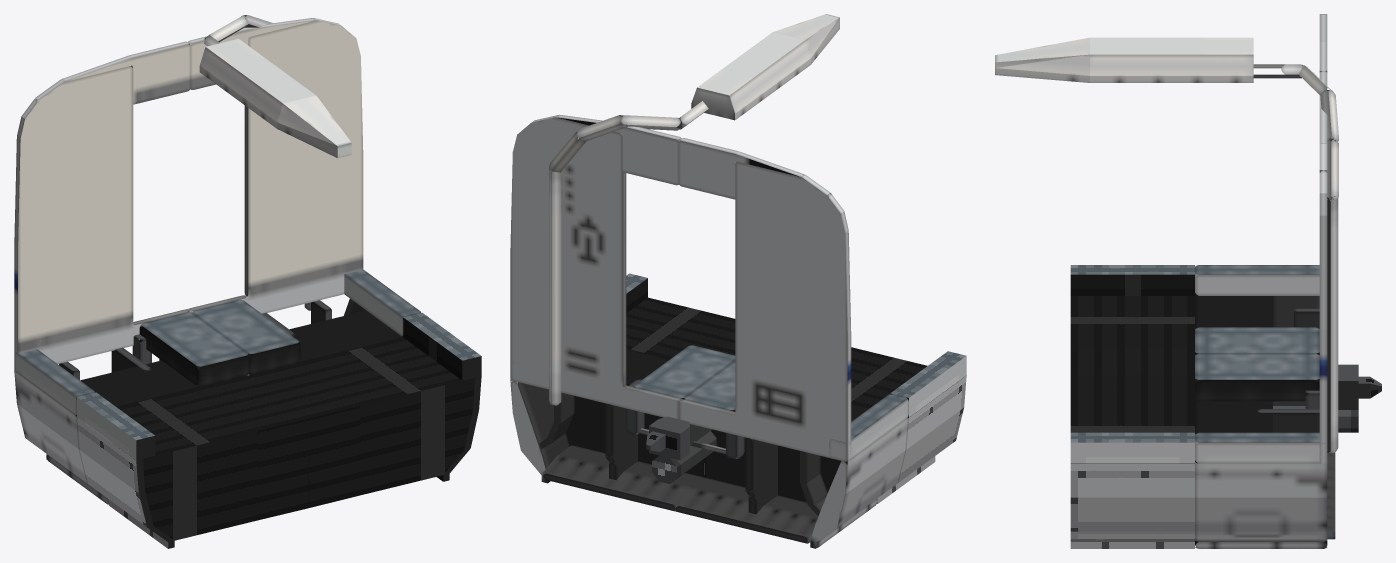
File: world_horizontal_wired.obj
3 views of the same model, side by side, from view 1: azimuth 30°, elevation 25°; view 2: azimuth 150°, elevation 25°; view 3: azimuth 270°, elevation 25° (orthographic). The views are drawn at different scales.
Parts seen in each view (by area): view 1: 端面1, 裙板-仪器舱靠近端面R, 裙板-仪器舱靠近端面L, 裙板-仪器舱R, 地板-中间, mesh, 裙板-仪器舱L, 端面2, 防雪风挡骨架, 防雪风挡骨架2; view 2: 端面1, mesh, 裙板-仪器舱R, 防雪风挡, 裙板-仪器舱靠近端面R, 裙板-仪器舱L, 端面2, 裙板-仪器舱靠近端面L, 地板-中间, 防雪风挡骨架, 防雪风挡骨架2, 半自动车钩 (+2 smaller); view 3: 裙板-仪器舱靠近端面L, 裙板-仪器舱L, mesh, 裙板-仪器舱靠近端面R, 地板-中间, 裙板-仪器舱R, 端面1, 防雪风挡骨架, 半自动车钩, 端面2, 防雪风挡, cylinder (+1 smaller).
Part boxes in pixels (<box>): 端面1: <box>14,18,363,371</box>; 裙板-仪器舱靠近端面R: <box>77,375,308,548</box>; 裙板-仪器舱靠近端面L: <box>250,313,481,507</box>; 裙板-仪器舱R: <box>14,349,248,504</box>; 地板-中间: <box>139,300,300,386</box>; mesh: <box>199,15,351,310</box>; 裙板-仪器舱L: <box>247,269,421,375</box>; 端面2: <box>62,18,315,104</box>; 防雪风挡骨架: <box>111,313,295,372</box>; 防雪风挡骨架2: <box>59,300,331,379</box>; 端面1: <box>510,114,851,461</box>; mesh: <box>549,14,839,405</box>; 裙板-仪器舱R: <box>704,394,908,548</box>; 防雪风挡: <box>543,445,818,543</box>; 裙板-仪器舱靠近端面R: <box>851,347,966,503</box>; 裙板-仪器舱L: <box>510,348,704,483</box>; 端面2: <box>557,115,804,199</box>; 裙板-仪器舱靠近端面L: <box>626,273,735,358</box>; 地板-中间: <box>634,345,735,411</box>; 防雪风挡骨架: <box>605,379,777,514</box>; 防雪风挡骨架2: <box>539,392,827,516</box>; 半自动车钩: <box>649,416,711,460</box>; 裙板-仪器舱靠近端面L: <box>1070,375,1194,548</box>; 裙板-仪器舱L: <box>1195,400,1327,548</box>; mesh: <box>995,37,1338,453</box>; 裙板-仪器舱靠近端面R: <box>1070,265,1194,375</box>; 地板-中间: <box>1195,327,1319,401</box>; 裙板-仪器舱R: <box>1195,265,1319,328</box>; 端面1: <box>1319,14,1327,463</box>; 防雪风挡骨架: <box>1257,409,1319,432</box>; 半自动车钩: <box>1273,364,1358,409</box>; 端面2: <box>1319,14,1327,143</box>; 防雪风挡: <box>1327,452,1335,539</box>; cylinder: <box>1273,406,1358,432</box>.
Size of the model in its own units: 3.38 by 3.81 by 3.11.
